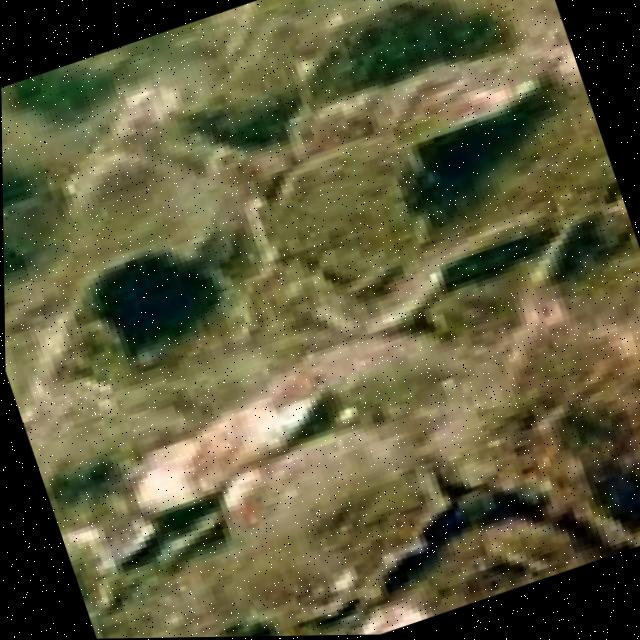Oyster-Closed: (63, 157, 235, 282)
Oyster-Indeterminate: (227, 431, 445, 632), (135, 361, 332, 513), (301, 0, 504, 114), (272, 148, 416, 270), (388, 55, 560, 146), (299, 81, 417, 153), (444, 213, 555, 281)
